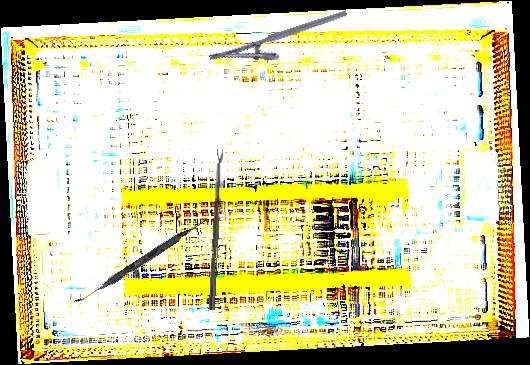Needle Holder: (208, 9, 354, 80)
Spatula Surgical: (73, 214, 209, 309)
Surgical Spoon: (208, 148, 225, 311)
